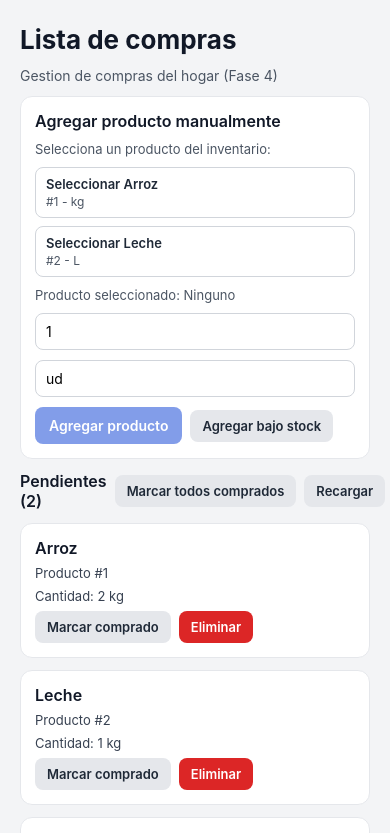
Test: ShoppingListScreen › marca todos los pendientes como comprados
Expected: the text "Pendientes (2)" is shown, [20,471,107,511]
What coordinates should you click on to do the following:
click the element showing "Marcar todos comprados"
I would click on:
 (205, 491)
Its box is [115,475,296,507].
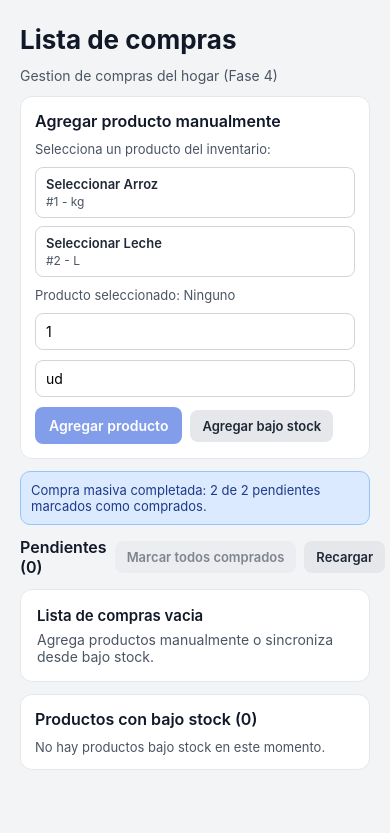
Expected: the text "Compra masiva completada: 2 de 2 pendientes marcados como comprados." is shown, [31,482,359,514]
